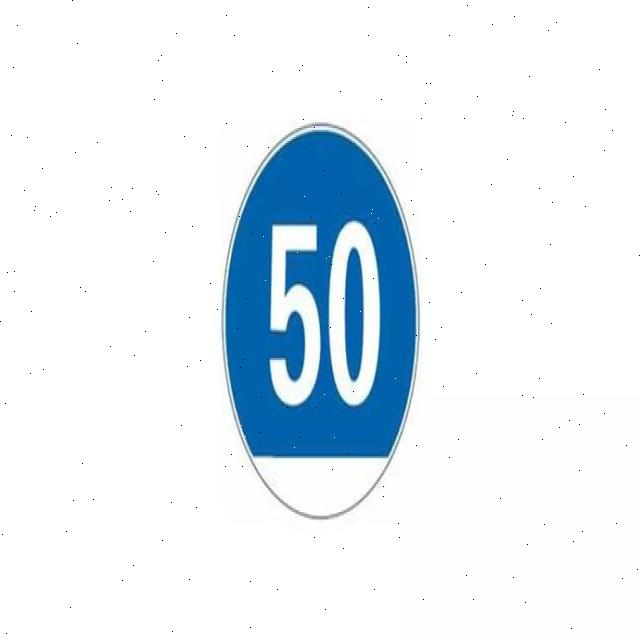speed limit 50: (222, 124, 420, 522)
